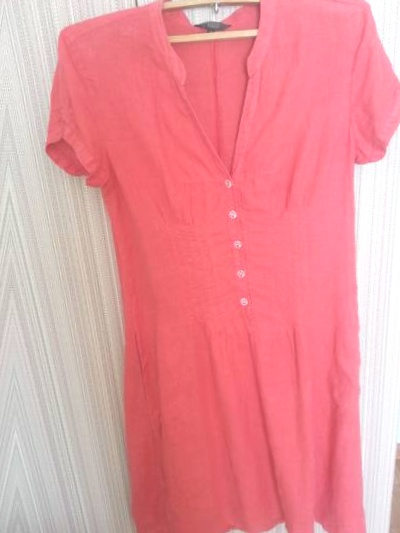Dress: (39, 0, 400, 533)
